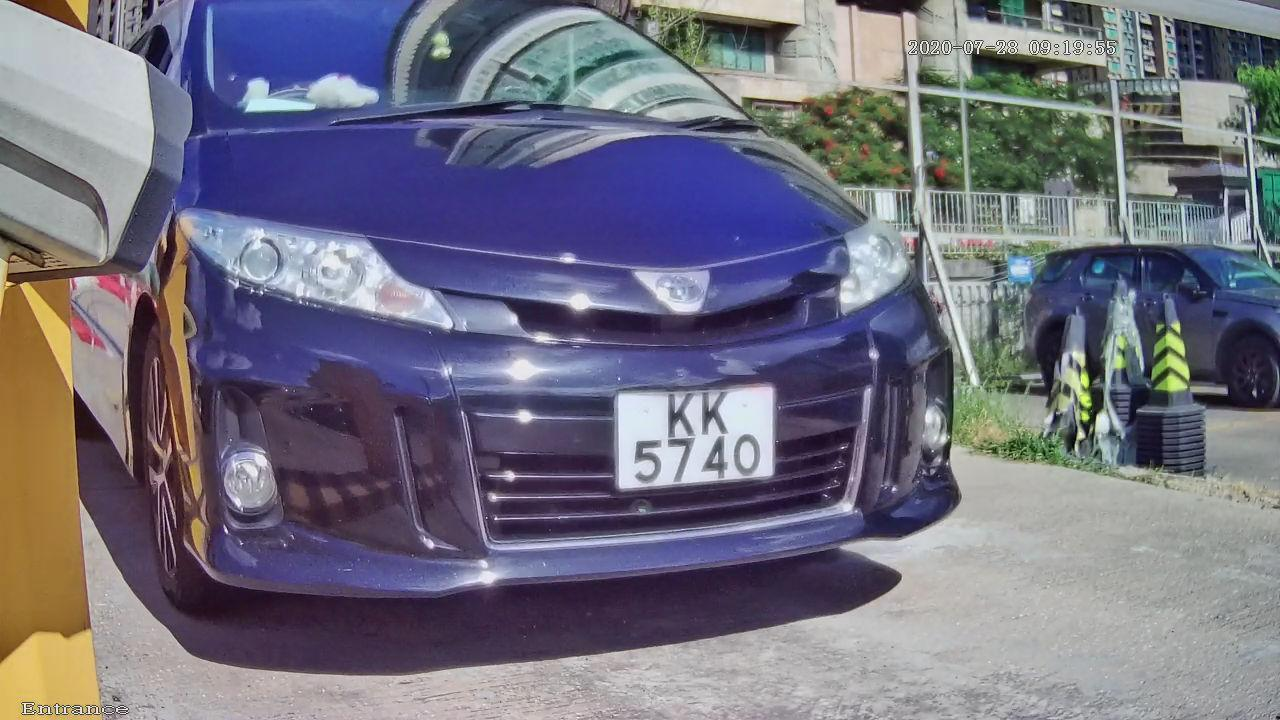privatecar: (6, 1, 1115, 692)
